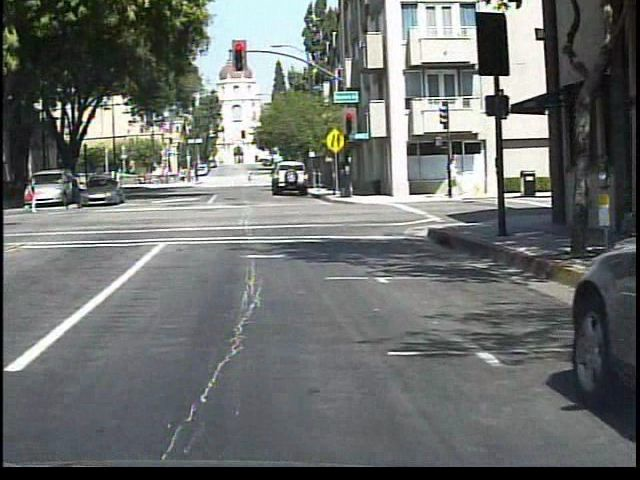person: (61, 170, 85, 215), (19, 177, 41, 217), (245, 169, 253, 187)
